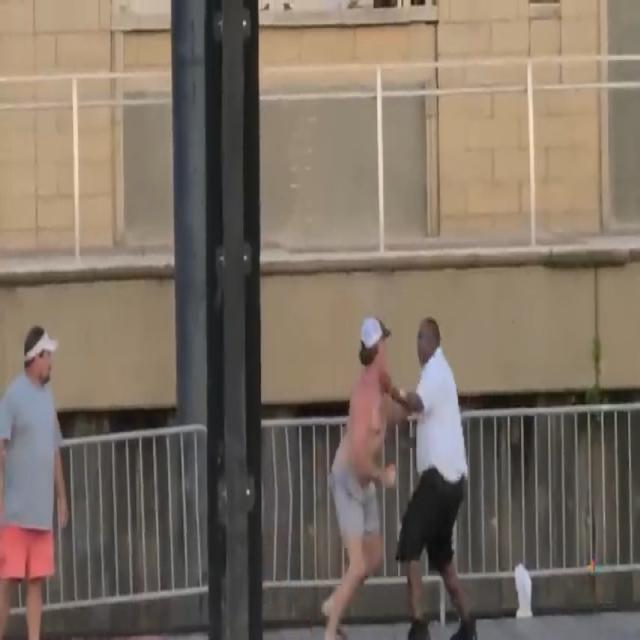fight: (317, 301, 486, 640)
non-fight: (0, 320, 76, 640)
